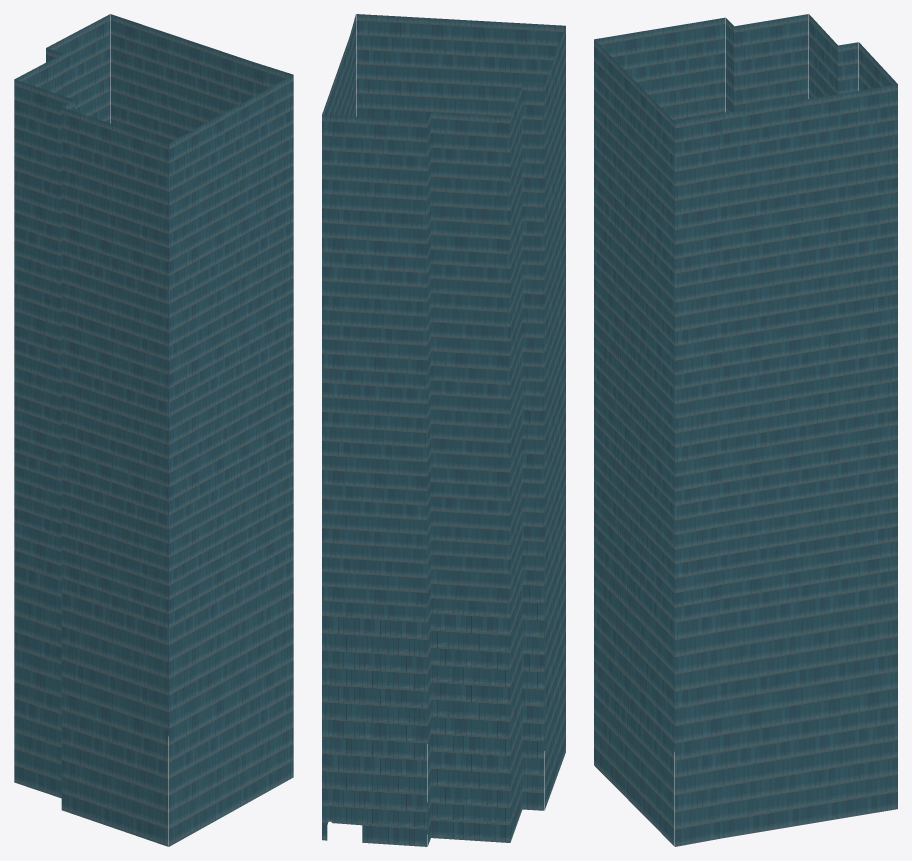
File: scramblesq.glb
The picture shows the model from 3 angles, left to right: view 1: azimuth 30°, elevation 25°; view 2: azimuth 150°, elevation 25°; view 3: azimuth 270°, elevation 25°; orthographic projection. The views are drawn at different scales.
Parts seen in each view (by area): view 1: scramblesq_win_scrsq; view 2: scramblesq_win_scrsq; view 3: scramblesq_win_scrsq.
Boxes of the visible parts, bbox=[...] form: scramblesq_win_scrsq: bbox=[14, 14, 293, 846]; scramblesq_win_scrsq: bbox=[322, 14, 565, 846]; scramblesq_win_scrsq: bbox=[594, 14, 897, 846].
Size of the model in its own units: 72.51 by 227 by 86.21.
Materials: 1 (1 with a texture image).
